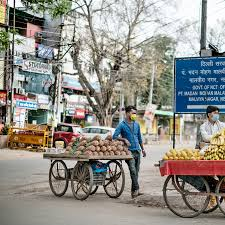mask: (206, 105, 220, 124), (126, 104, 138, 124)
